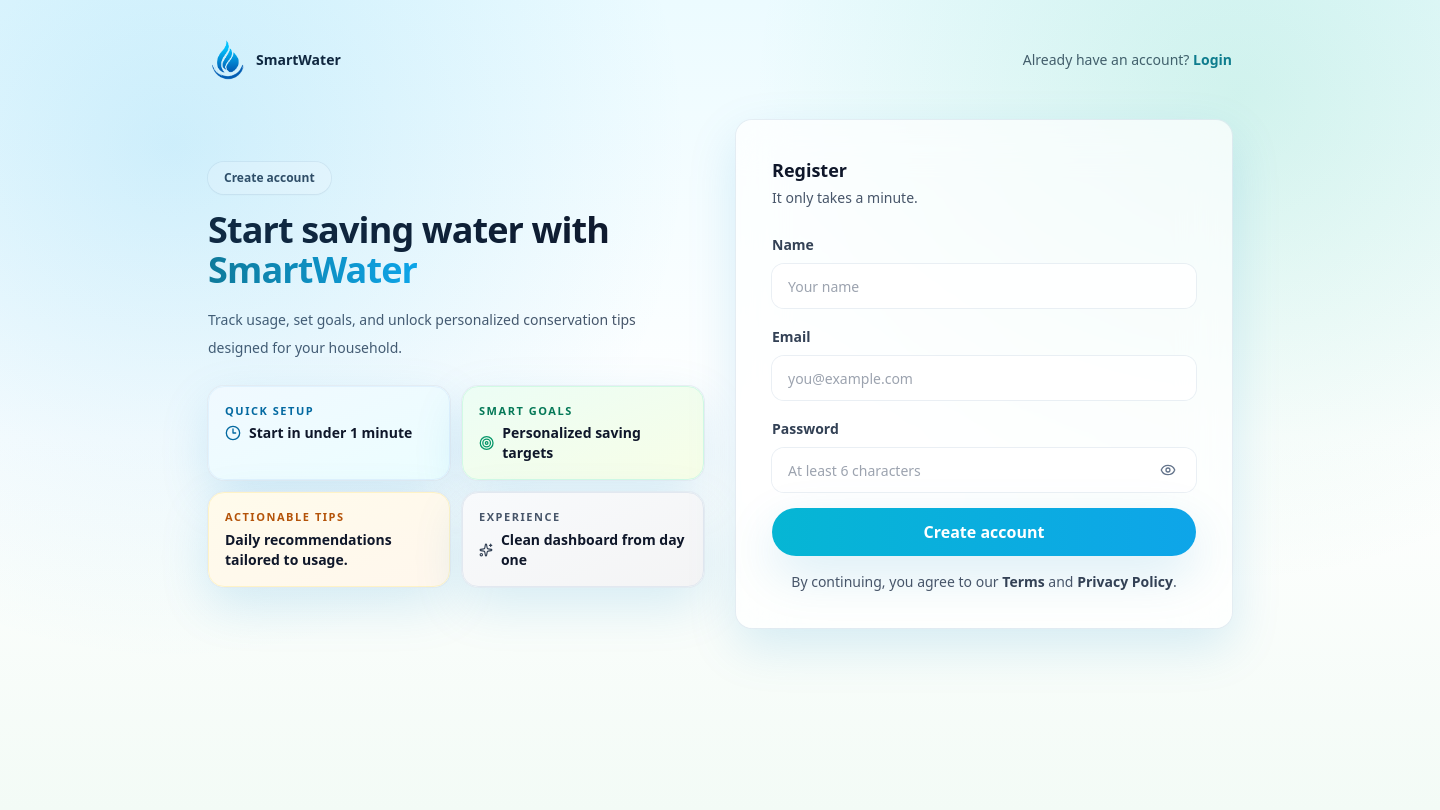
Test: shows fallback registration error when backend error has no message
In the field with placeholder "Your name": (984, 286) left=772, top=264, right=1196, bottom=308, type "Test User"
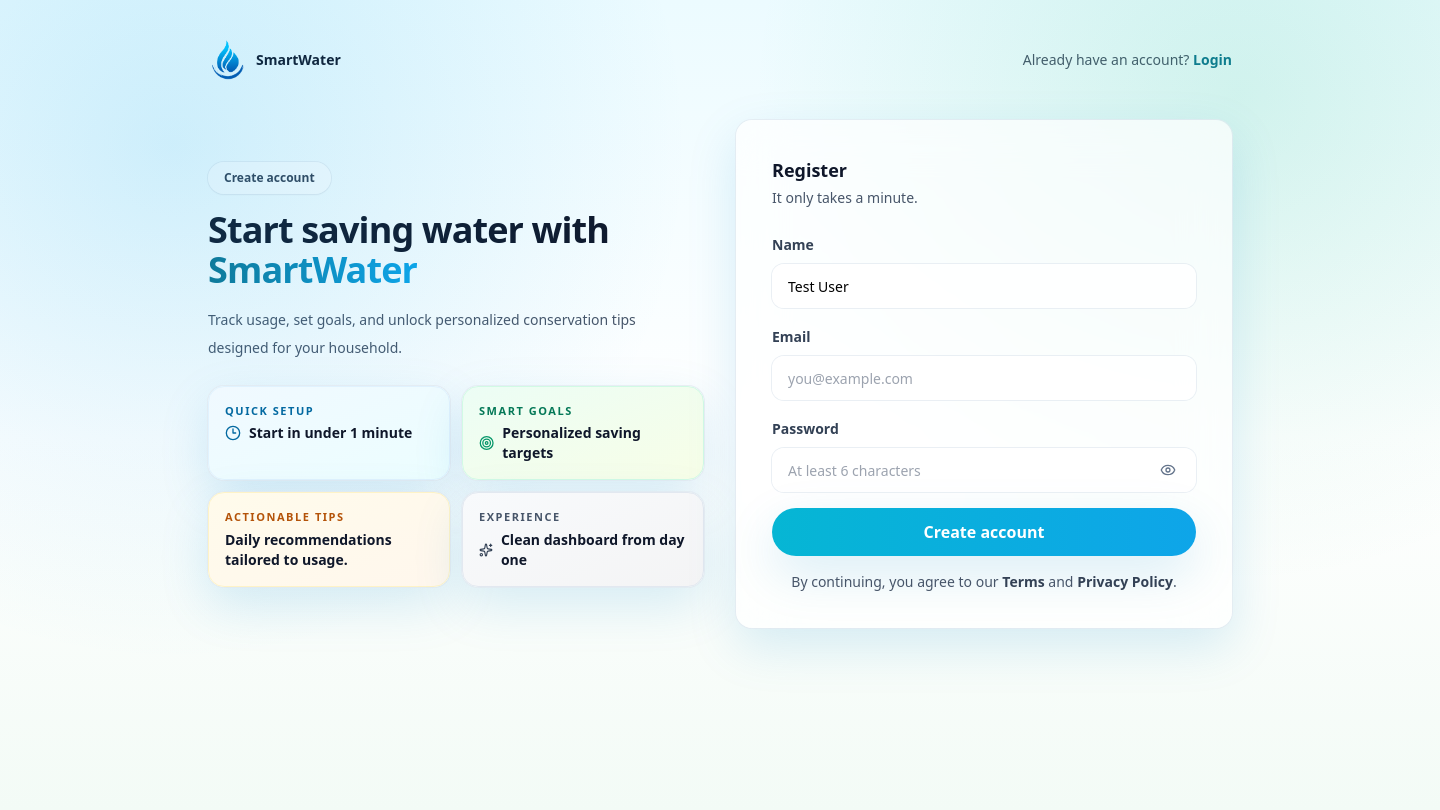
In the field with placeholder "you@example.com": (984, 378) left=772, top=356, right=1196, bottom=400, type "fallback@example.com"
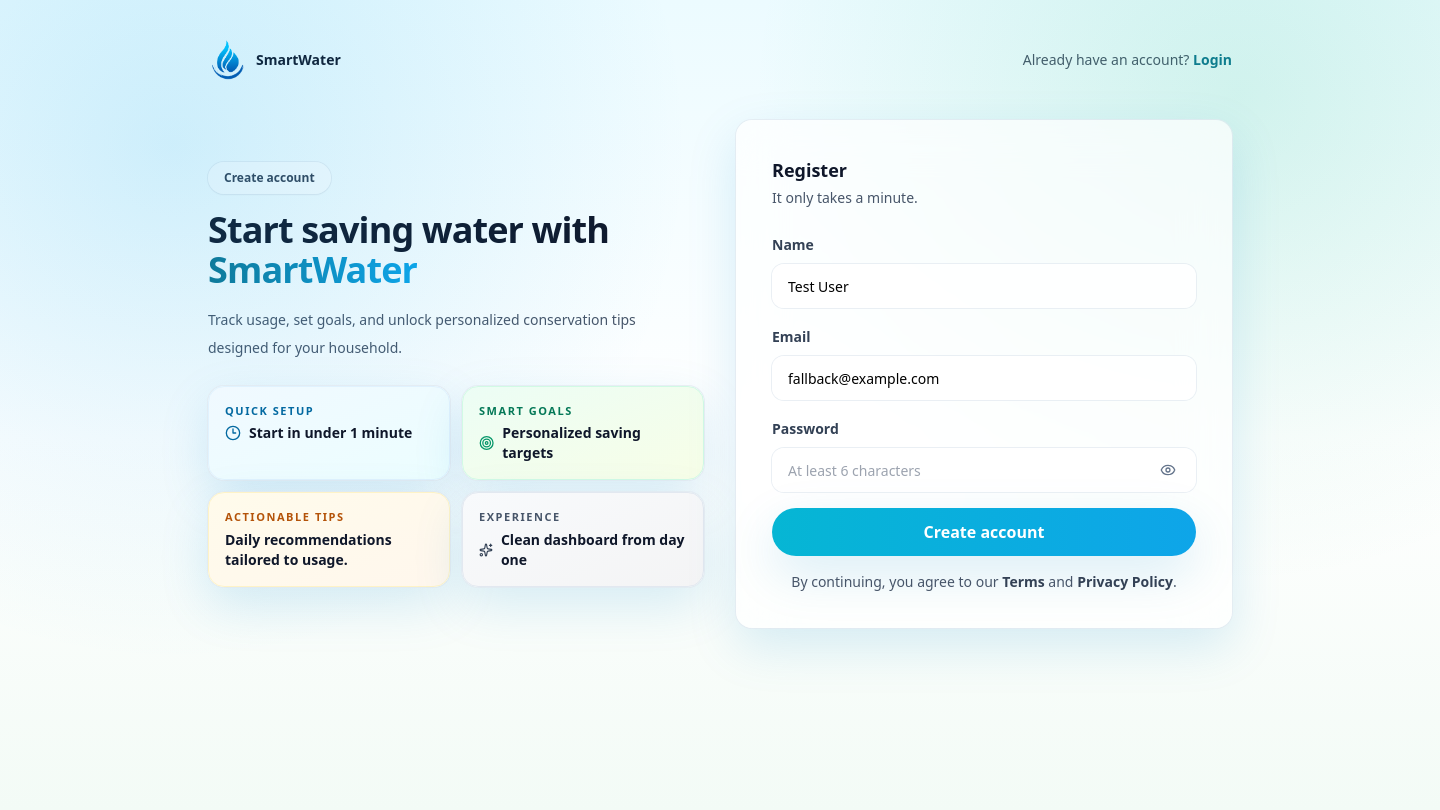
In the password field with placeholder "At least 6 characters": (984, 470) left=772, top=448, right=1196, bottom=492, type "secret123"
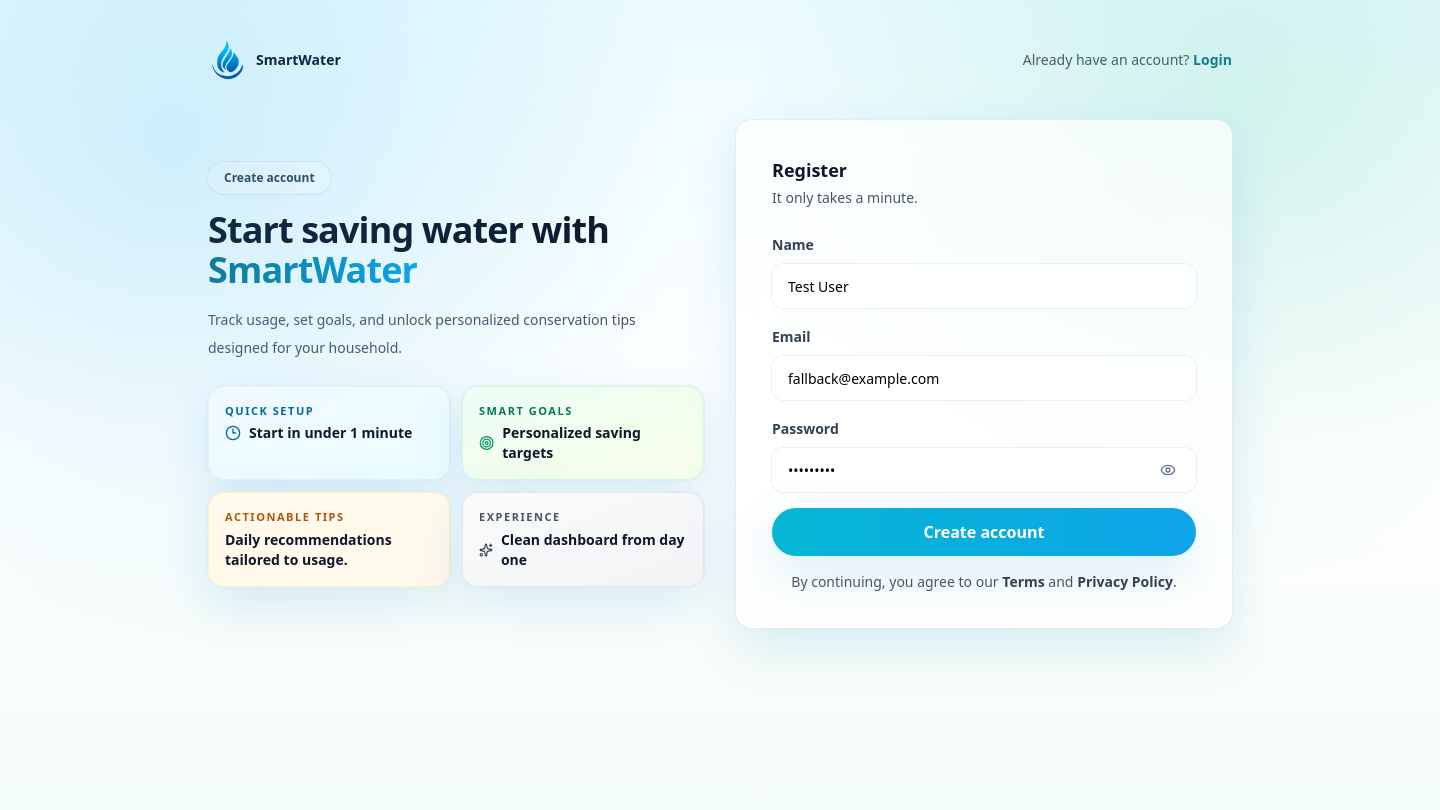
Click the button "Create account": (984, 532) left=772, top=508, right=1196, bottom=556
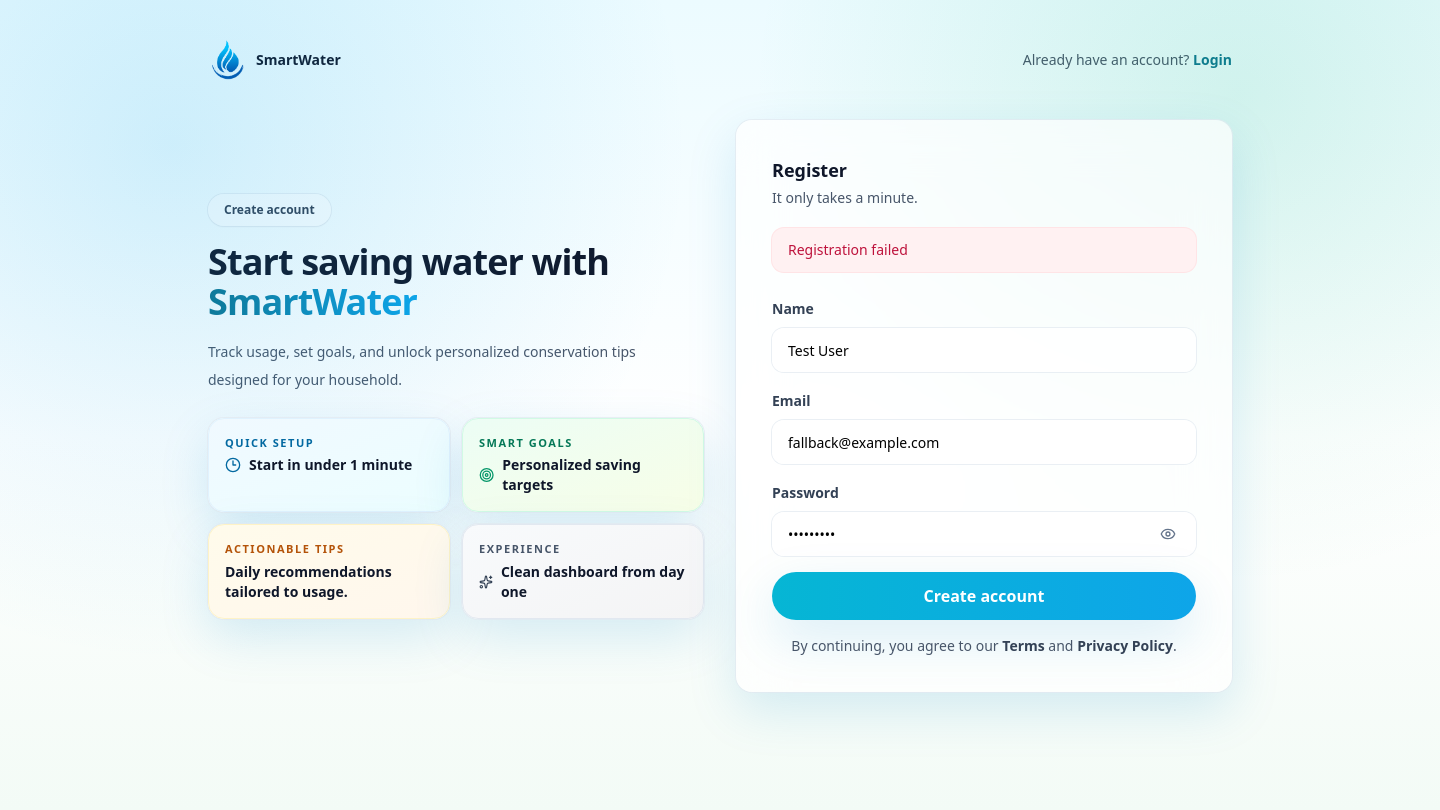
Expected: the text "Registration failed" is shown, left=772, top=228, right=1196, bottom=272
